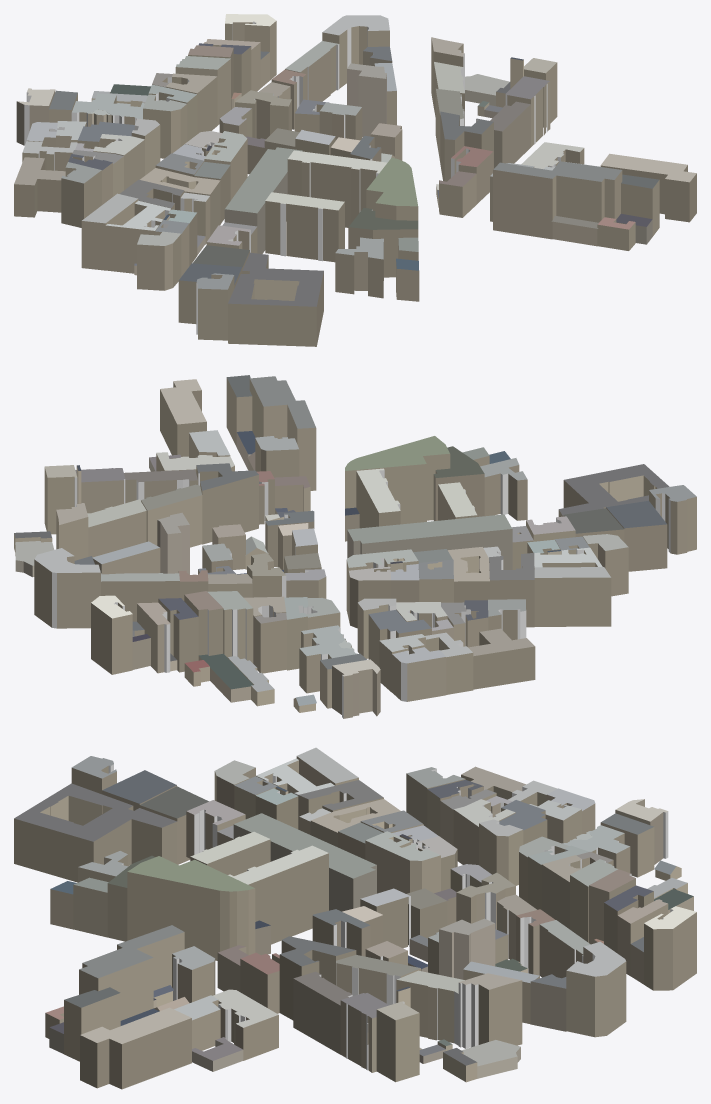
3 views of the same model, one above another, from view 1: azimuth 30°, elevation 25°; view 2: azimuth 150°, elevation 25°; view 3: azimuth 270°, elevation 25° (orthographic). The views are drawn at different scales.
Visible parts, largest first — view 1: tuile; view 2: tuile; view 3: tuile.
Boxes of the visible parts, x1,y1,x2,y2 form: tuile: (14, 14, 696, 346); tuile: (14, 375, 696, 718); tuile: (14, 747, 696, 1089).
Bounding box in the file's own units: 278 × 36.27 × 279.
